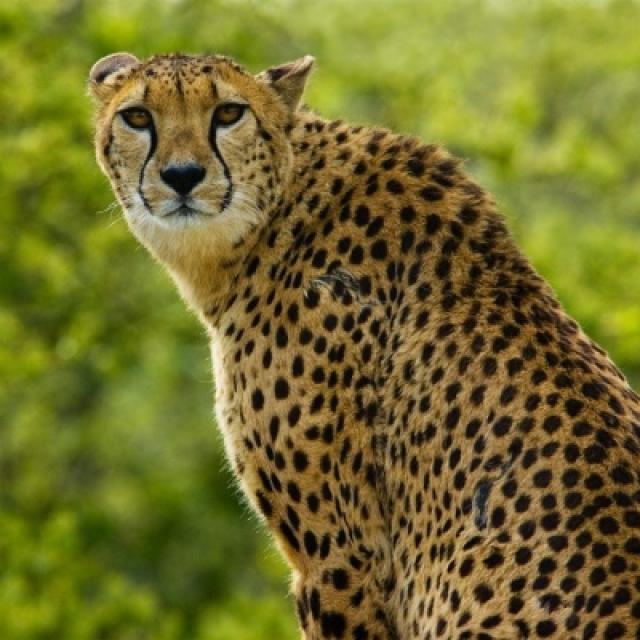Cheetah: (90, 53, 638, 638)
